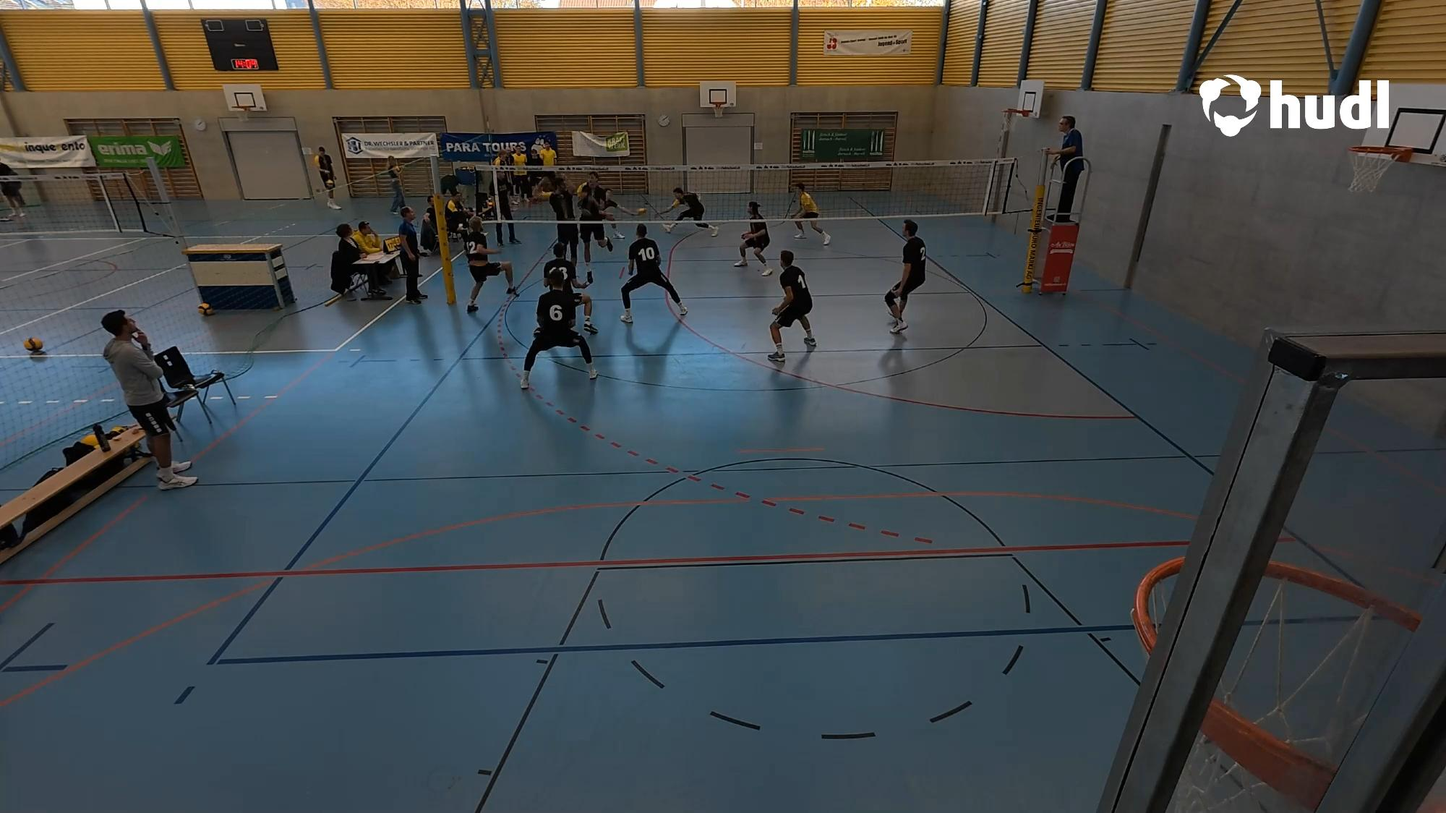difesa: (600, 190, 646, 238)
